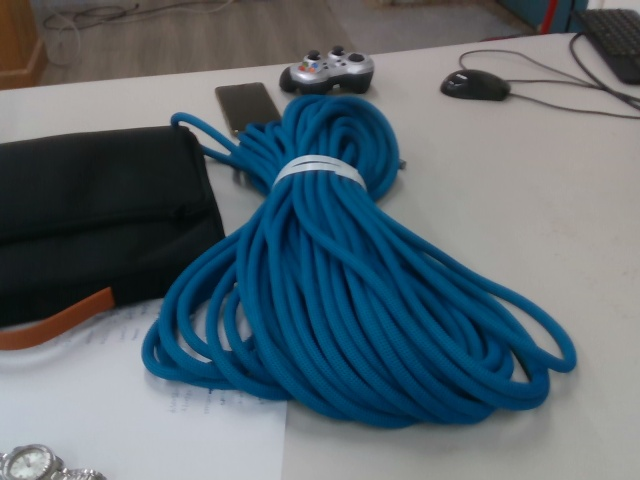rope: (140, 92, 579, 430)
